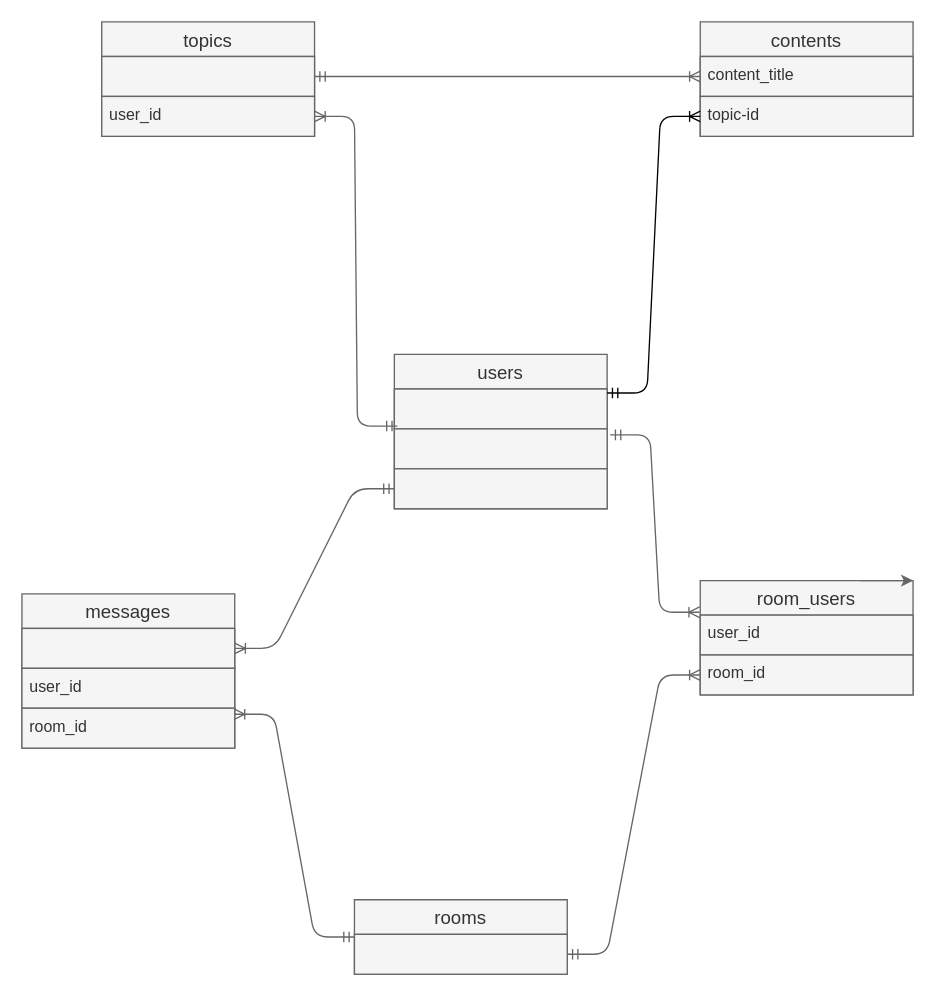
This 935x996 diagram has some shape labels left out. The centre of each missing label's shape, as x and y in pixels:
content: (x=128, y=647)
email: (x=500, y=448)
name: (x=500, y=408)
password: (x=500, y=488)
room_name: (x=460, y=953)
title_name: (x=207, y=75)
